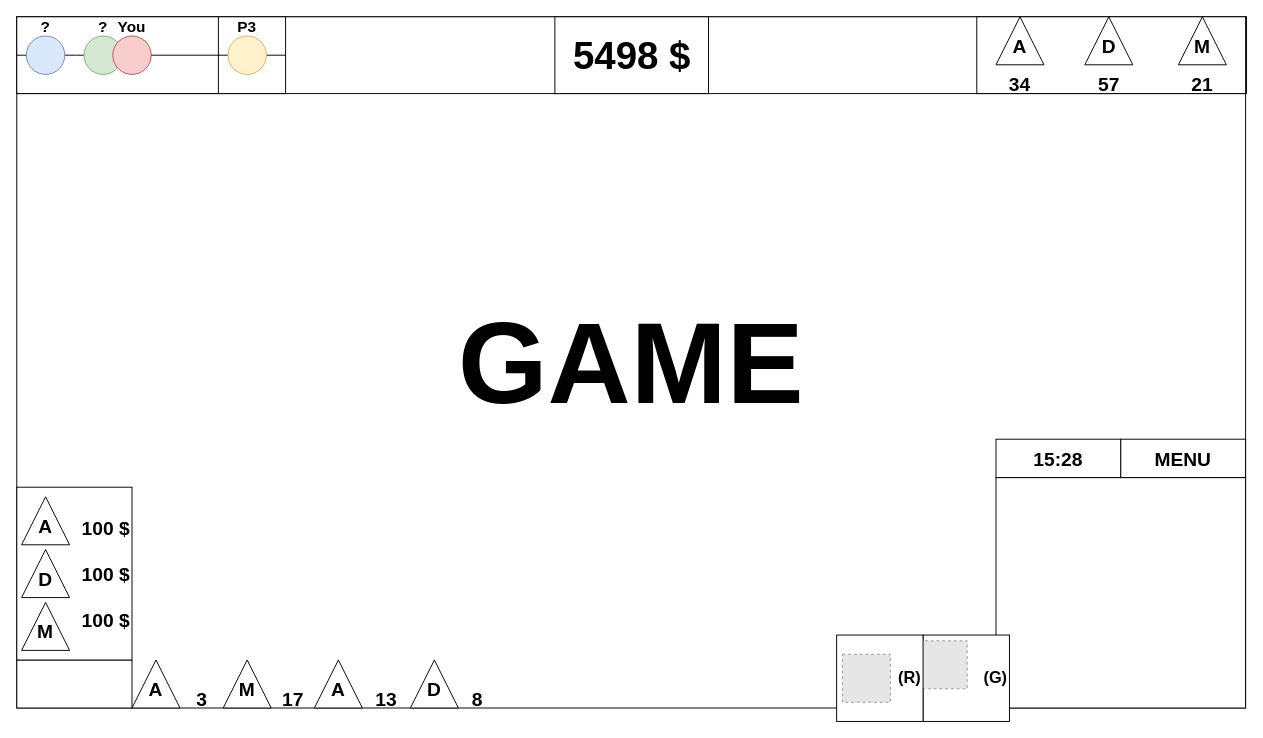
This 1263x738 diagram has some shape labels left out. Grey dashed boxes stand in for pictures. Here are the shapes that lost their labels. From the top down, the box of each, then its label:
(995, 477, 1246, 708): MAP
(16, 659, 132, 708): SHOP (B)
